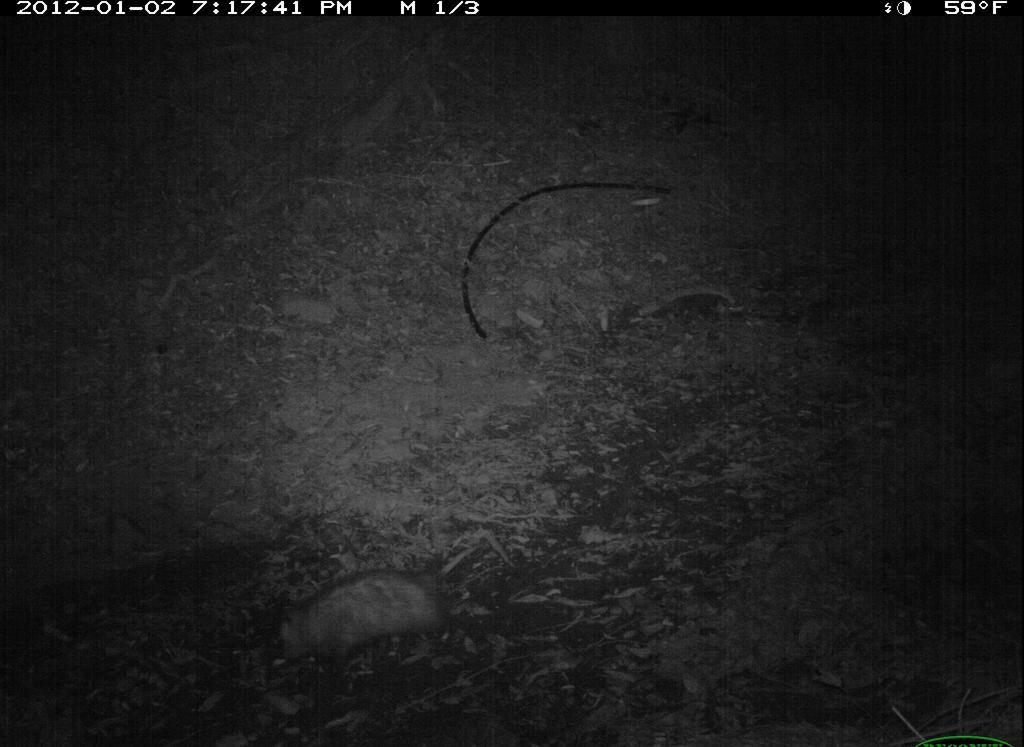opossum: (271, 562, 475, 678)
